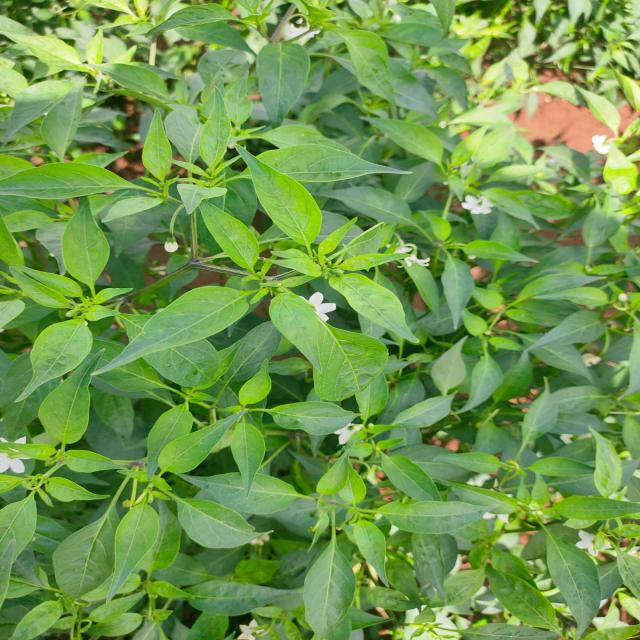Mosaic_virus: (7, 0, 640, 640)
